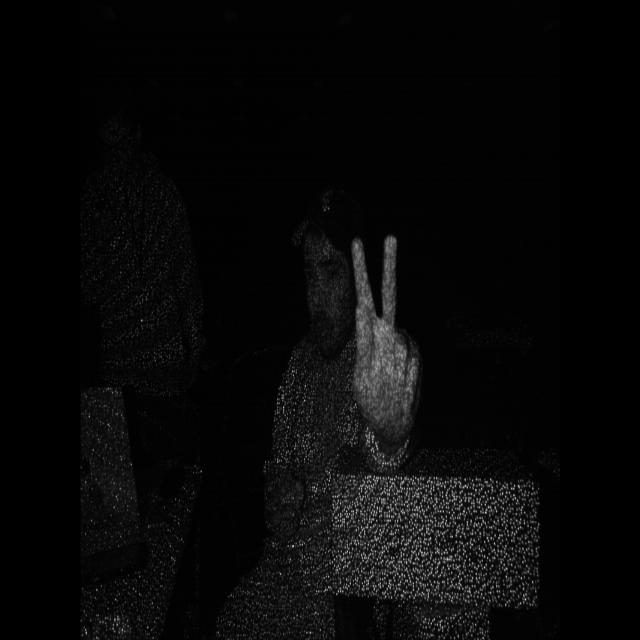V: (332, 213, 430, 460)
